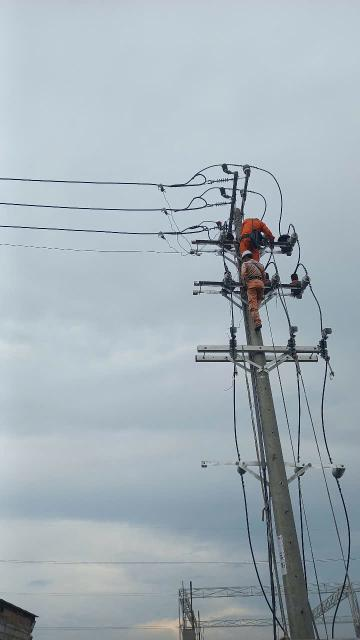harness: (233, 272, 272, 288), (237, 231, 261, 243)
helmet: (240, 249, 254, 261)
shoes: (251, 322, 270, 333)
